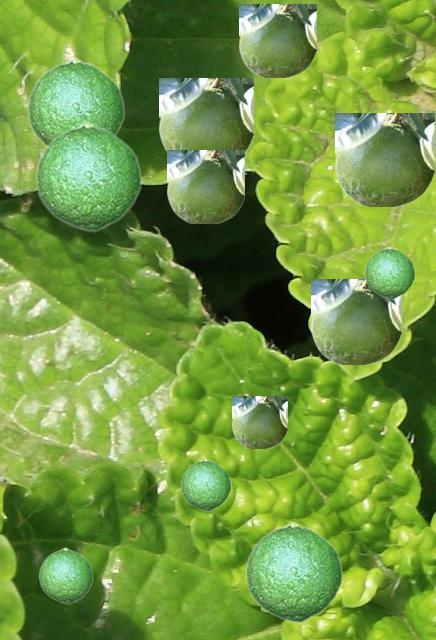dalandan: (34, 121, 141, 231), (244, 521, 342, 622), (335, 113, 433, 205), (26, 57, 124, 145), (311, 279, 400, 363), (159, 78, 252, 155), (167, 150, 243, 222), (239, 4, 315, 76), (38, 547, 92, 603), (232, 396, 286, 447), (180, 458, 230, 510), (364, 246, 414, 298)
